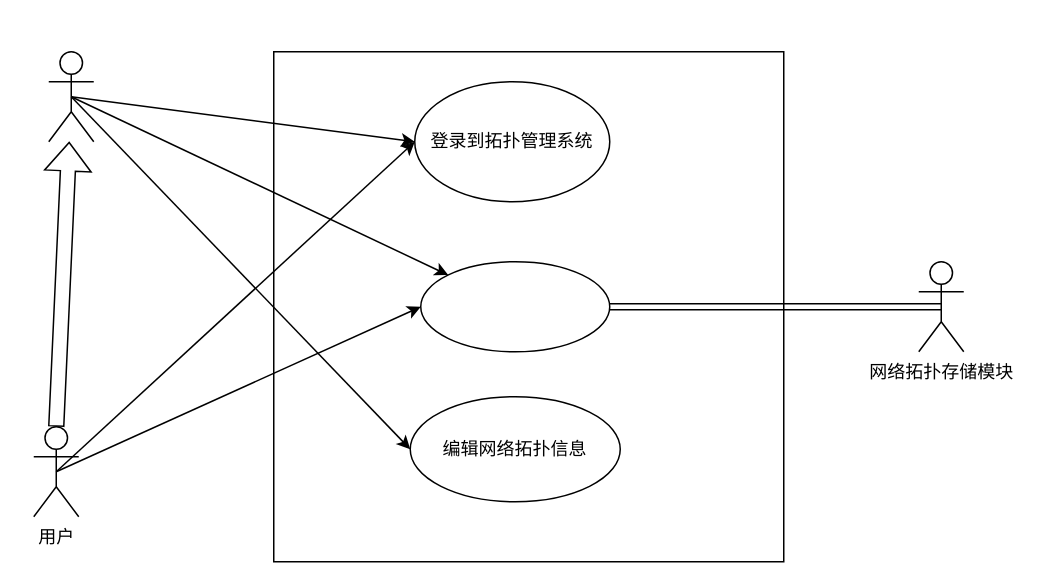
Some shapes in this 1040 by 588 pixel diagram are drawn without their labels. Here are the shapes that lost their labels. From the top down, the box of each, then its label:
(47, 50, 94, 142): 网络管理员
(419, 260, 610, 352): 查看网络拓扑
